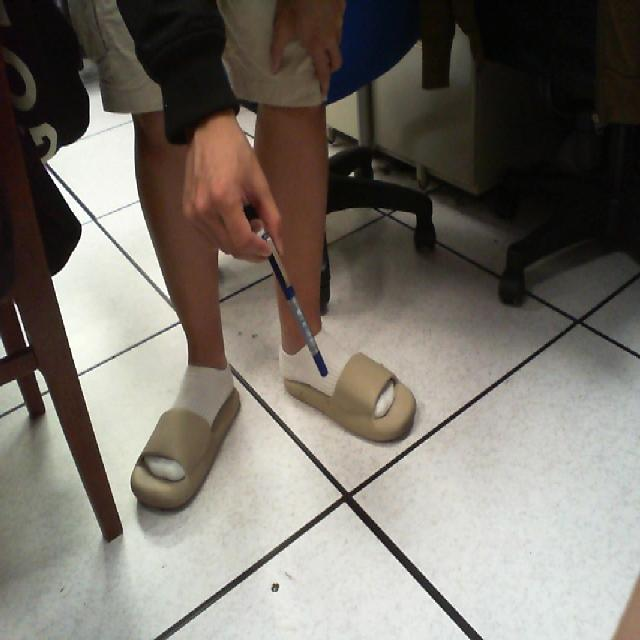Pen: (247, 206, 344, 402)
